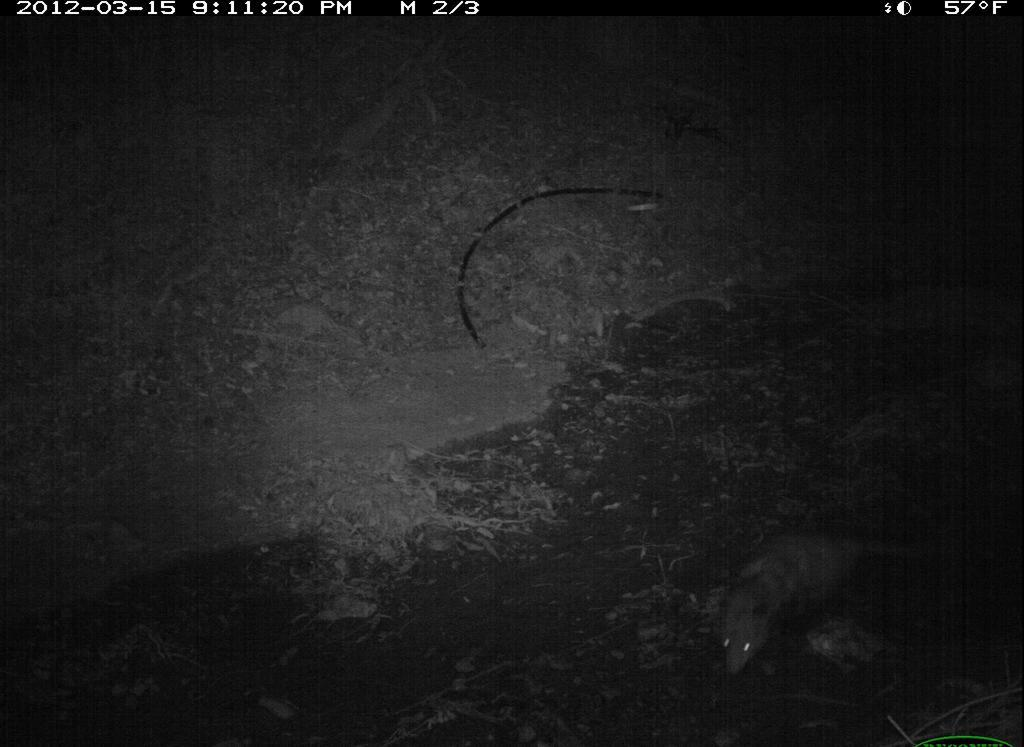opossum: (713, 516, 912, 684)
